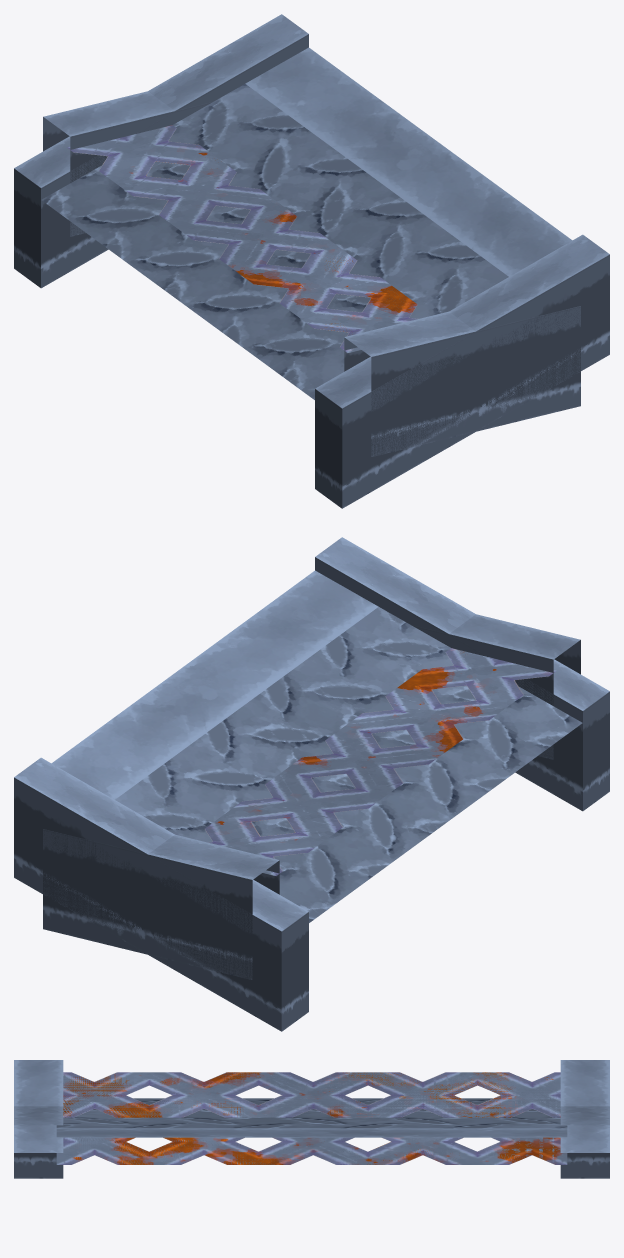
The model's file is BridgePieces.fbx.
3 renders of one model, top to bottom at view 1: azimuth 30°, elevation 25°; view 2: azimuth 150°, elevation 25°; view 3: azimuth 270°, elevation 25°, orthographic. The views are drawn at different scales.
Visible parts, largest first — view 1: BridgeRamp, BridgeSection1, BridgeSection2; view 2: BridgeRamp, BridgeSection1, BridgeSection2; view 3: BridgeSection1, BridgeRamp, BridgeSection2, BridgeSection3.
Part boxes in pixels (left/top/right/bottom): BridgeRamp: left=14, top=14, right=609, bottom=508; BridgeSection1: left=43, top=92, right=580, bottom=455; BridgeSection2: left=44, top=91, right=580, bottom=456; BridgeRamp: left=14, top=537, right=609, bottom=1031; BridgeSection1: left=43, top=615, right=580, bottom=979; BridgeSection2: left=43, top=614, right=580, bottom=979; BridgeSection1: left=14, top=1060, right=609, bottom=1164; BridgeRamp: left=14, top=1098, right=609, bottom=1178; BridgeSection2: left=14, top=1060, right=609, bottom=1164; BridgeSection3: left=94, top=1072, right=554, bottom=1164.
Size of the model in its own units: 5.7 by 3.85 by 12.1.
